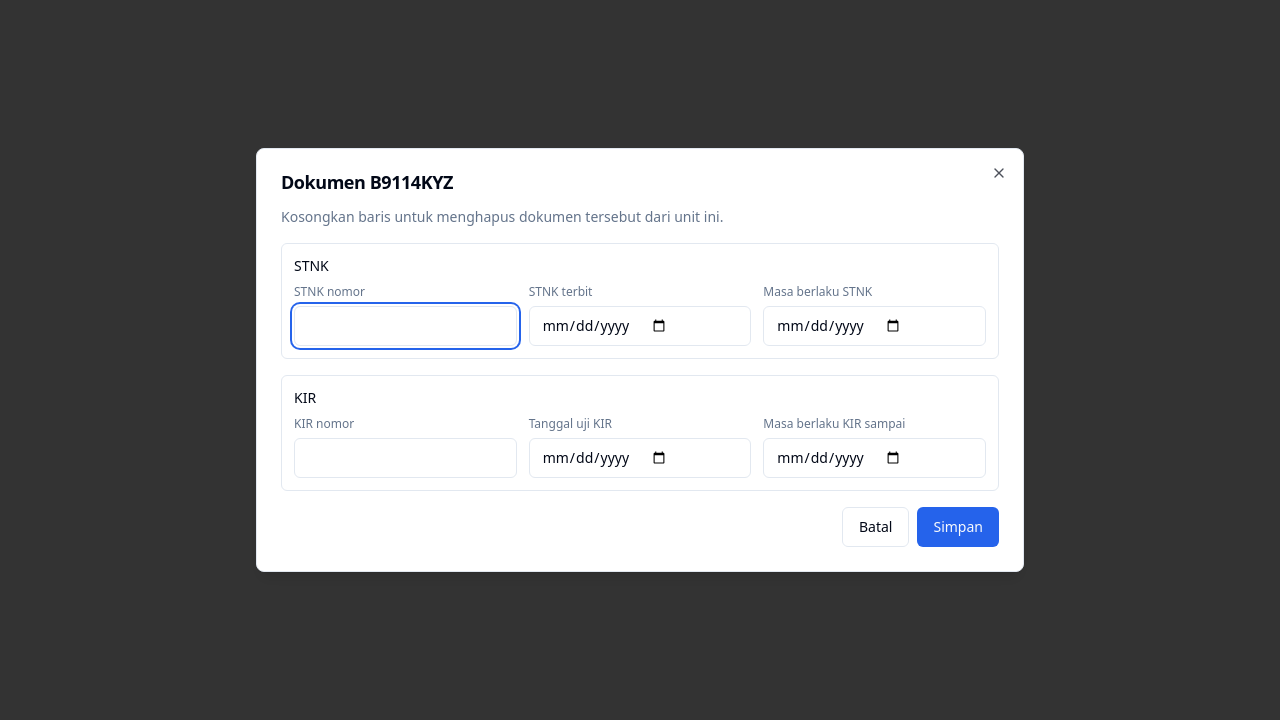
Test: VehicleDocumentsDialog › disables the submit button while saving
The image size is (1280, 720).
What coordinates should you click on to do the following:
click the button "Simpan"
I would click on:
 (958, 527)
Its box is [918, 507, 999, 547].
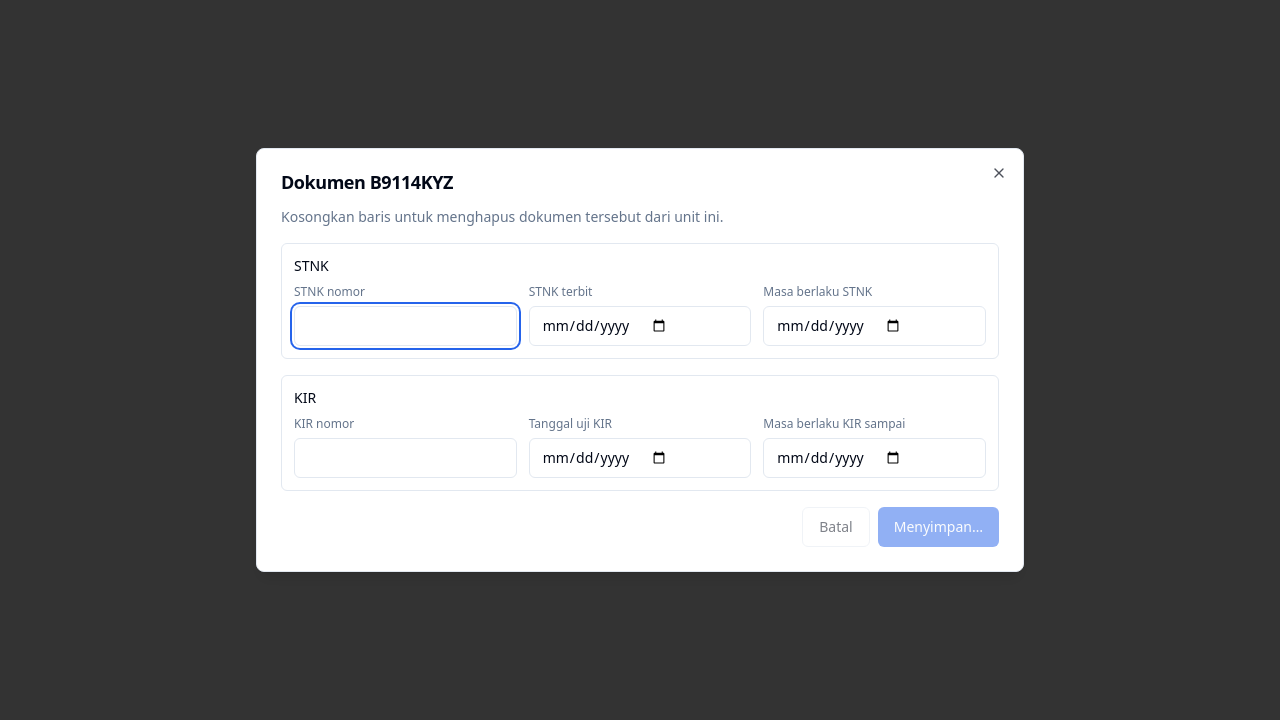
Now the button "Menyimpan…" is disabled, box [878, 507, 999, 547]
